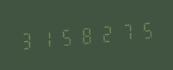eight: (77, 20, 96, 49)
five: (57, 22, 76, 50), (137, 15, 156, 43)
one: (37, 24, 56, 52)
seven: (117, 17, 136, 45)
three: (17, 26, 36, 54)
two: (97, 19, 116, 47)
